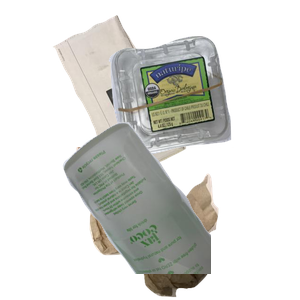glass: (60, 120, 300, 300)
paper: (51, 13, 230, 186)
plastic: (106, 34, 300, 183)
trash: (73, 147, 300, 300)
